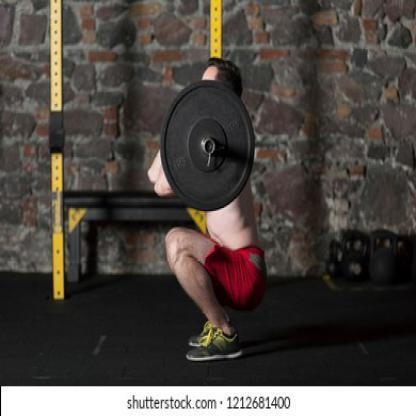barbell: (160, 80, 256, 211)
